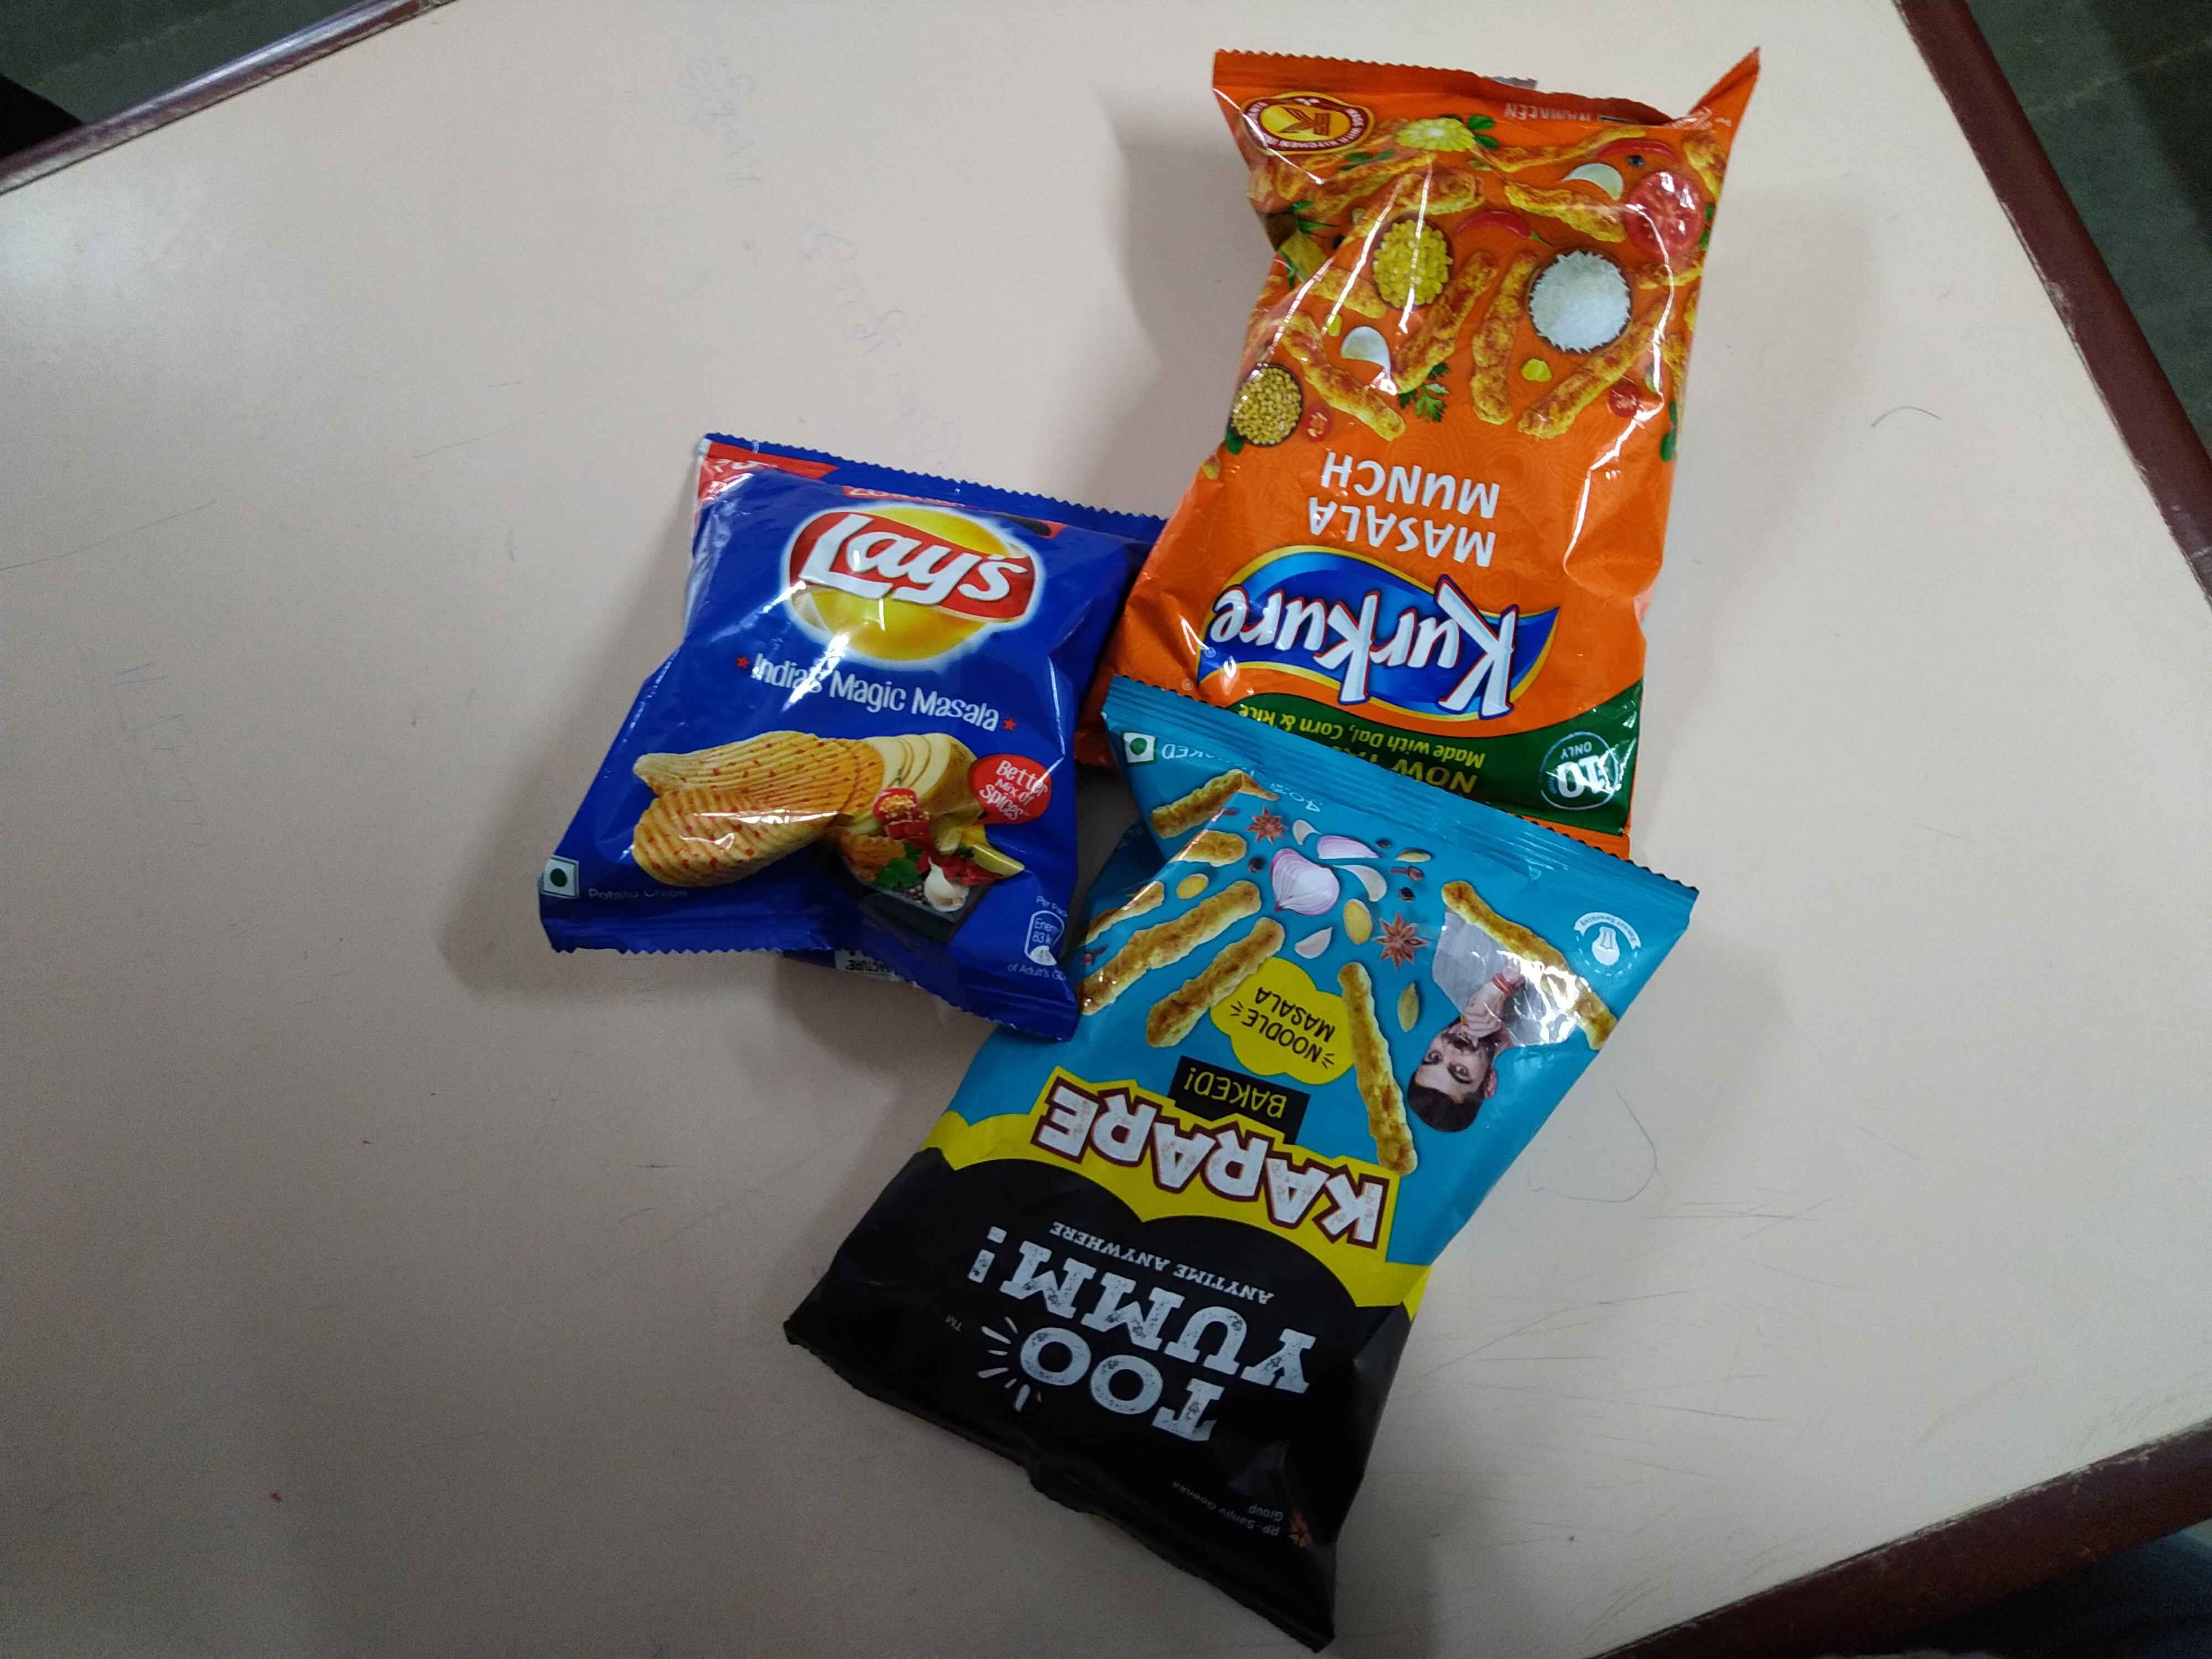Lays: (761, 483, 1045, 676)
kurkure: (1169, 556, 1559, 730)
tooyumm: (968, 1215, 1310, 1476)
